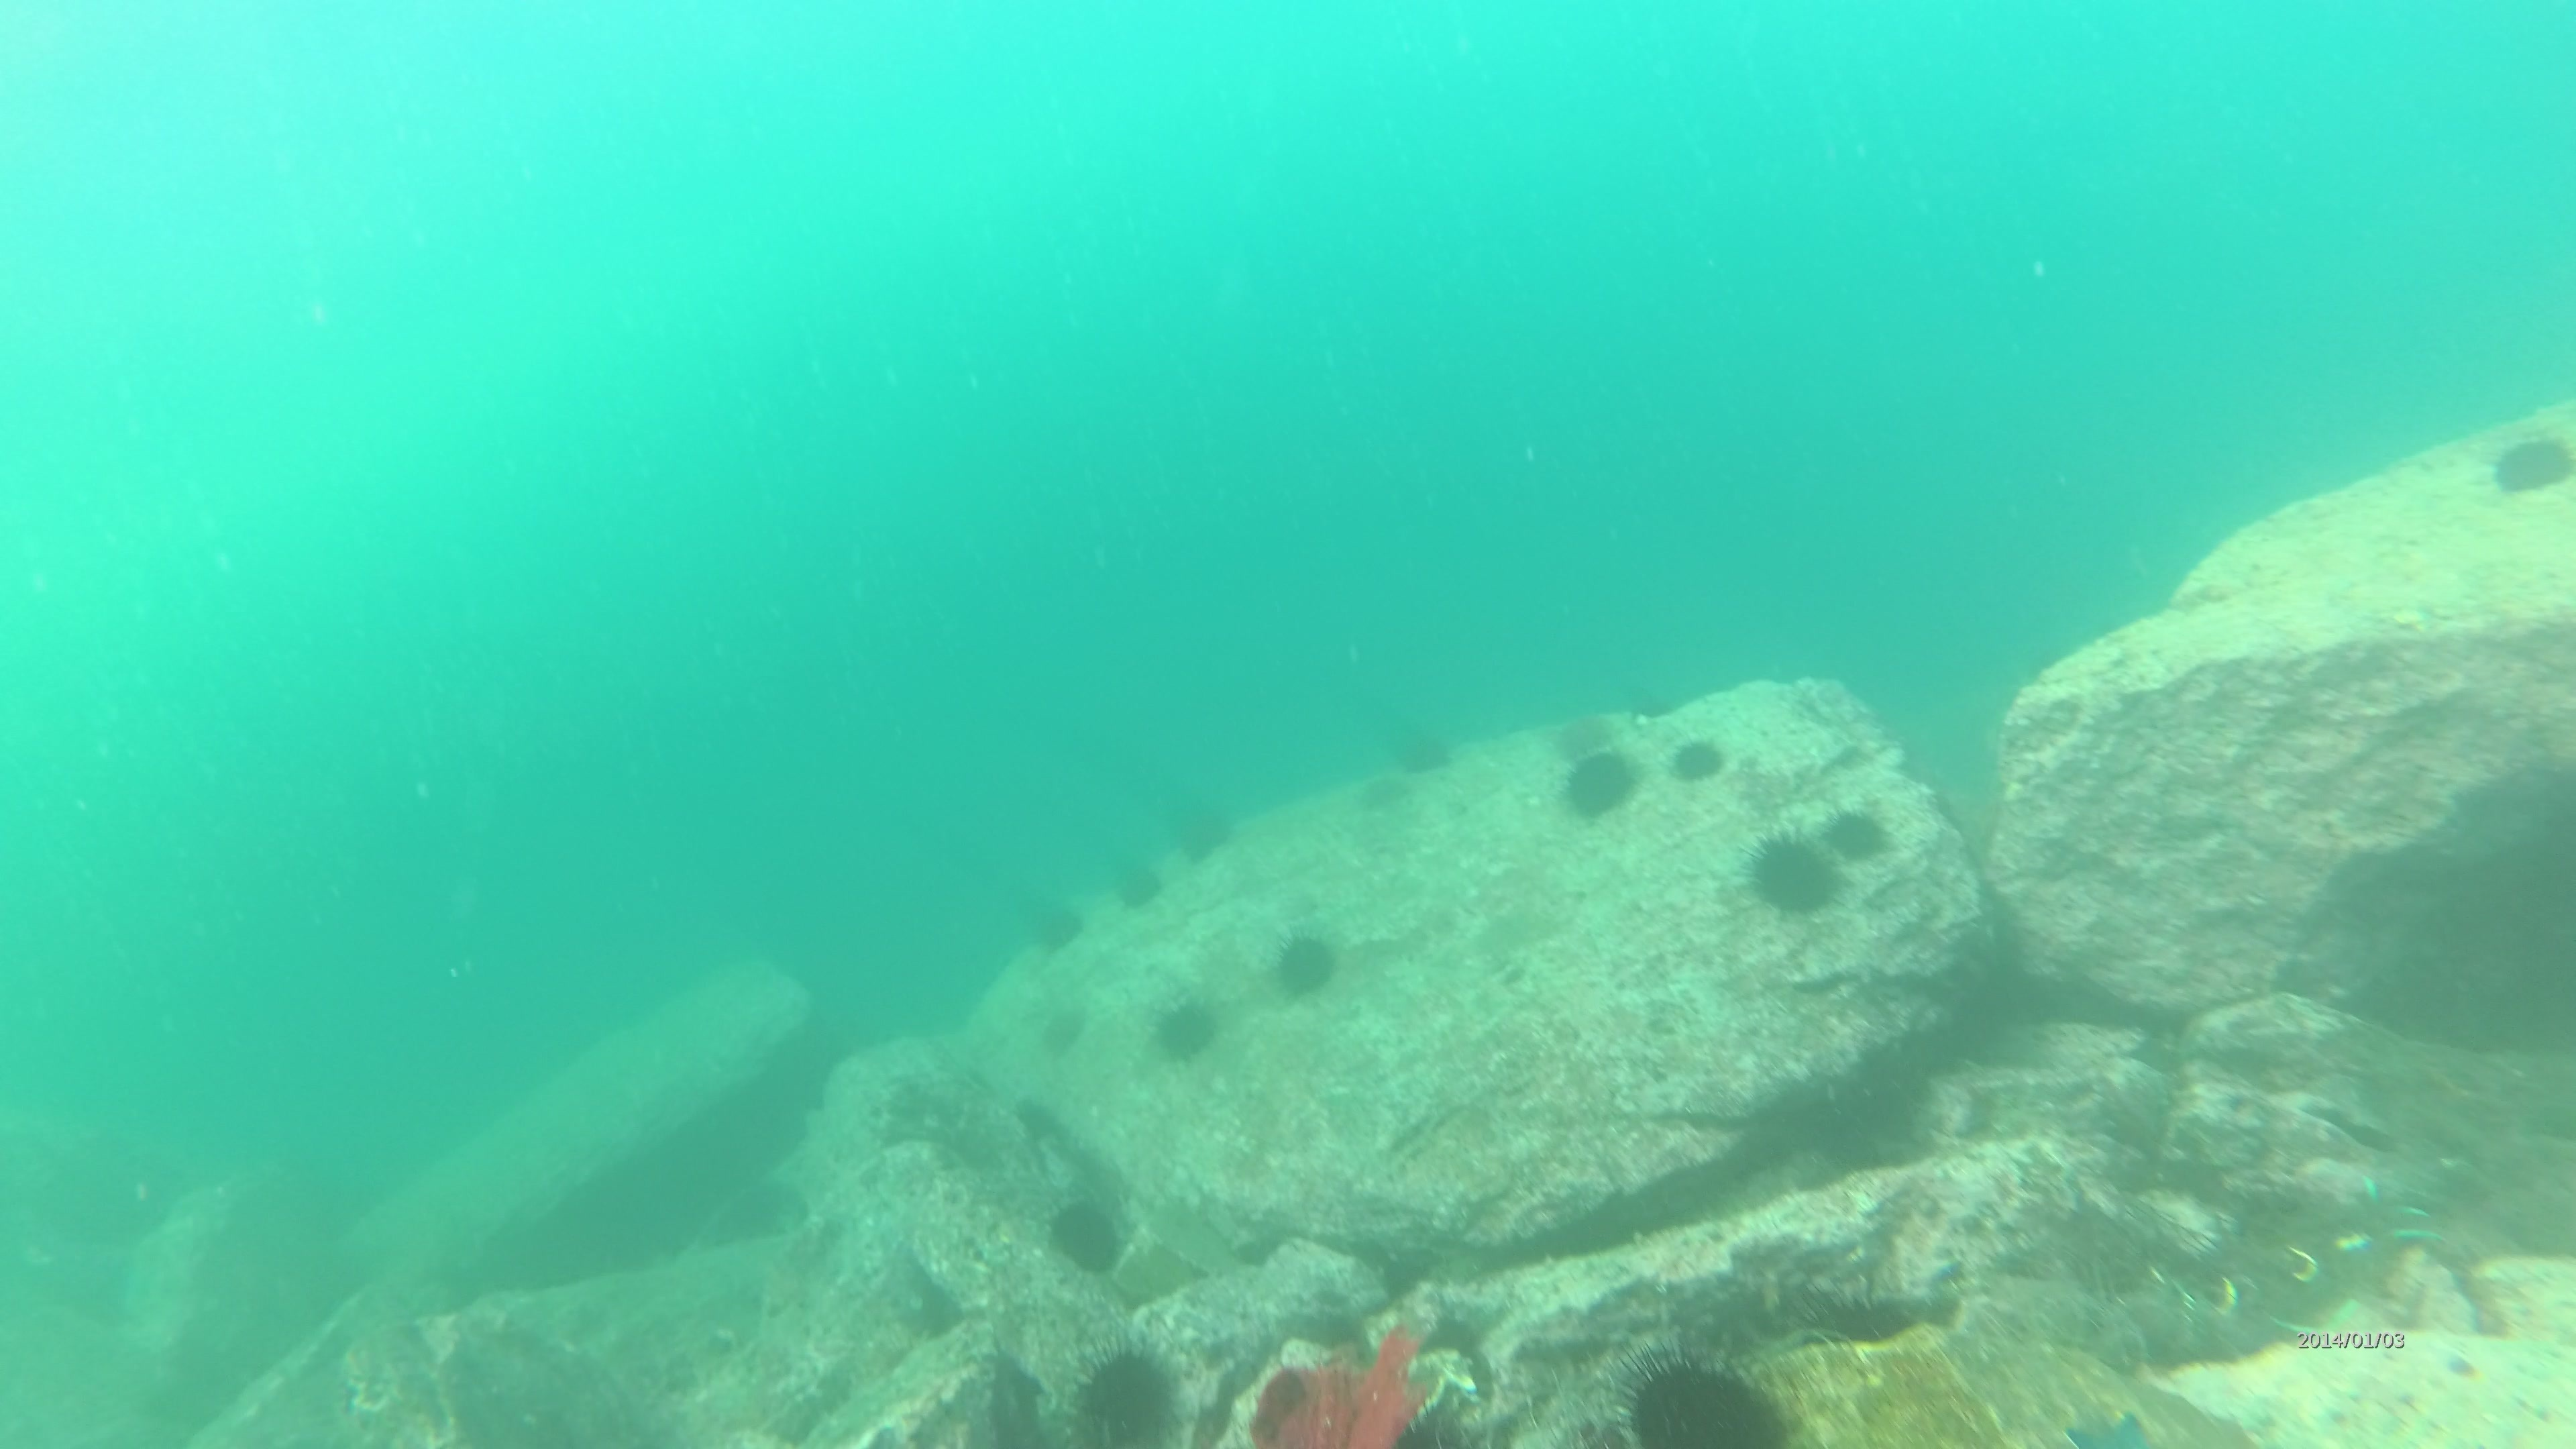echinus: (1612, 1345, 1789, 1447), (1065, 1338, 1187, 1445), (1741, 824, 1849, 924), (1040, 1191, 1132, 1279), (1555, 740, 1644, 826), (2484, 425, 2576, 504), (1265, 922, 1346, 1005), (1161, 786, 1240, 867), (1145, 989, 1224, 1069), (1819, 798, 1897, 869), (1384, 715, 1460, 782), (1019, 890, 1090, 959), (1104, 849, 1169, 916), (1033, 994, 1092, 1062), (1667, 731, 1729, 789), (1546, 717, 1622, 759), (1357, 778, 1410, 805)
